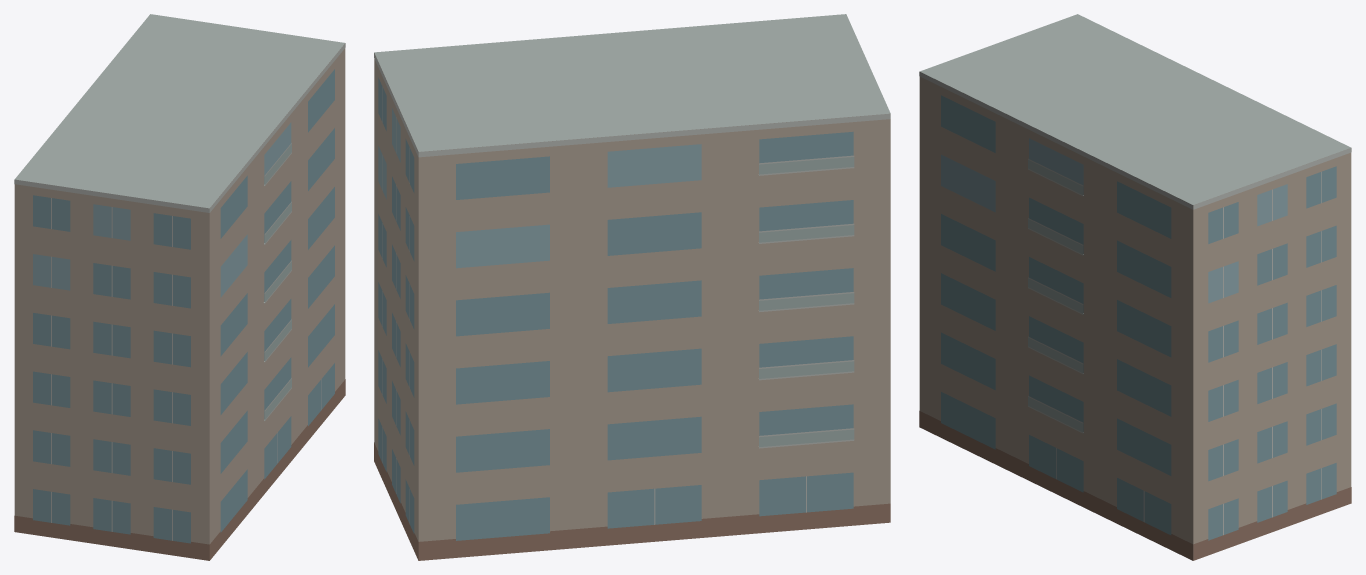
The model's file is survey-upis-32629868.glb.
3 renders of one model, left to right at view 1: azimuth 30°, elevation 25°; view 2: azimuth 150°, elevation 25°; view 3: azimuth 270°, elevation 25°, orthographic. The views are drawn at different scales.
Visible parts, largest first — view 1: survey-upis-32629868.tmp; view 2: survey-upis-32629868.tmp; view 3: survey-upis-32629868.tmp.
Part boxes in pixels (x1,y1,x2,y2): survey-upis-32629868.tmp: (14, 14, 345, 560); survey-upis-32629868.tmp: (374, 14, 890, 560); survey-upis-32629868.tmp: (919, 14, 1351, 560).
Size of the model in its own units: 21.09 by 18.3 by 20.14.
